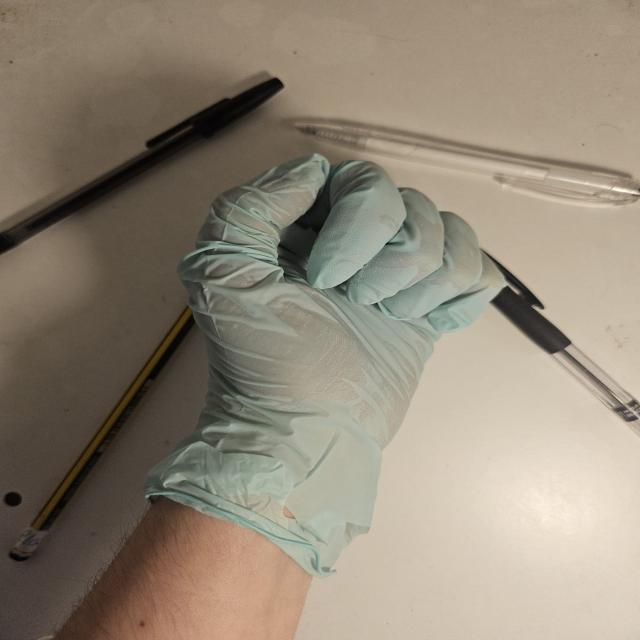gloves_damaged: (155, 150, 511, 576)
